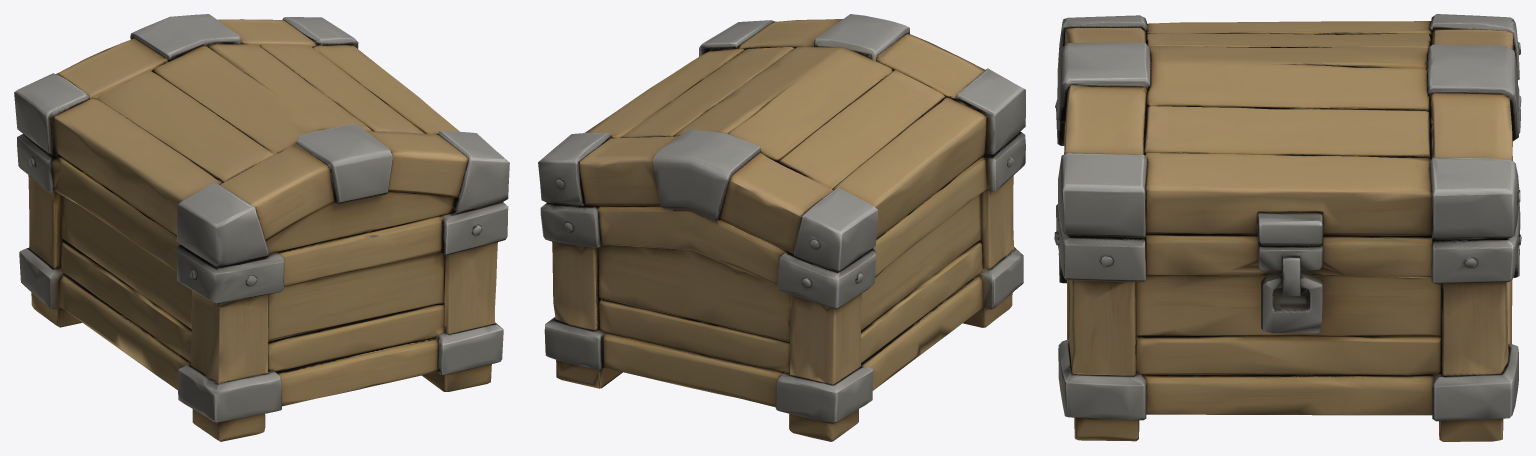
File: chest.fbx
The picture shows the model from 3 angles, left to right: view 1: azimuth 30°, elevation 25°; view 2: azimuth 150°, elevation 25°; view 3: azimuth 270°, elevation 25°; orthographic projection. The views are drawn at different scales.
Visible parts, largest first — view 1: tripo_node_e463bc61; view 2: tripo_node_e463bc61; view 3: tripo_node_e463bc61.
Boxes of the visible parts, box(x1,y1,x2,y2) form: tripo_node_e463bc61: box(14, 14, 509, 441); tripo_node_e463bc61: box(538, 14, 1025, 441); tripo_node_e463bc61: box(1054, 14, 1521, 441).
Size of the model in its own units: 0.9071 by 0.7145 by 0.9806.
